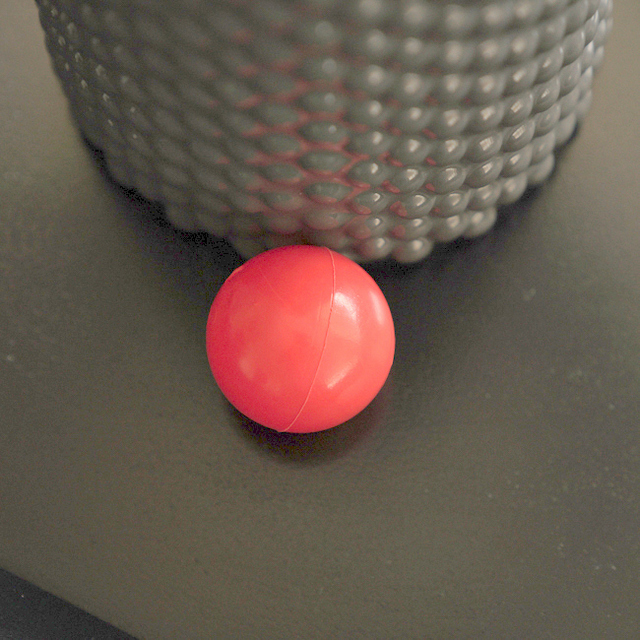Ball: (205, 248, 399, 436)
